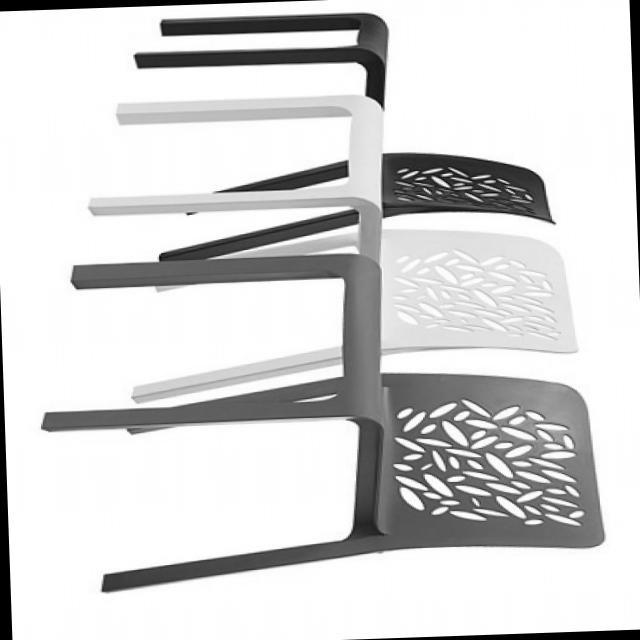chair: (27, 240, 611, 594), (80, 84, 580, 398), (126, 0, 564, 248)
